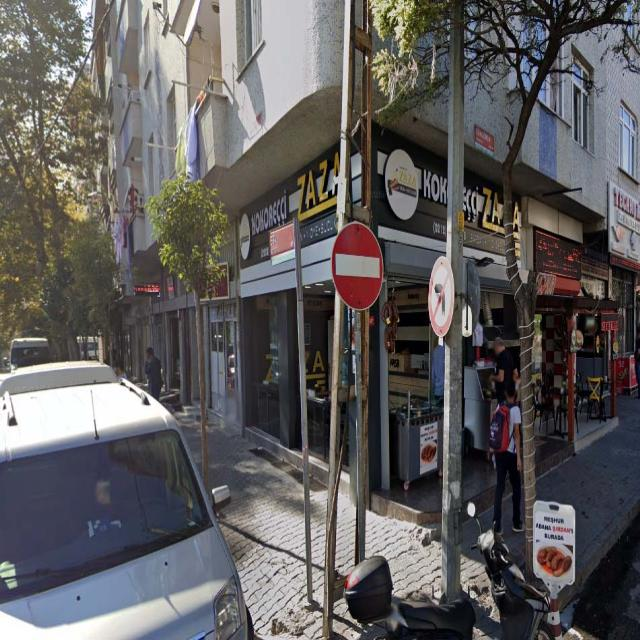girisyok: (331, 222, 384, 310)
soladonulmez: (427, 256, 454, 338)
